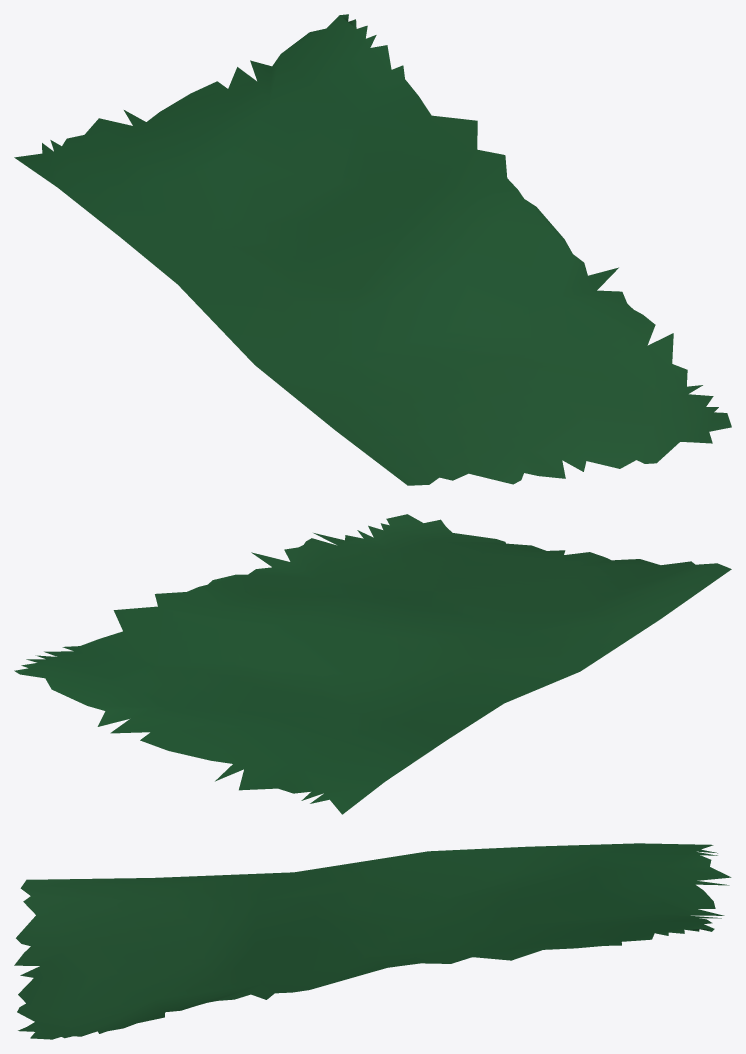
Rendered from payo_land_x4_y4_lod2.glb.
The picture shows the model from 3 angles, top to bottom: view 1: azimuth 30°, elevation 25°; view 2: azimuth 150°, elevation 25°; view 3: azimuth 270°, elevation 25°; orthographic projection. The views are drawn at different scales.
Parts seen in each view (by area): view 1: payo_land_x4_y4; view 2: payo_land_x4_y4; view 3: payo_land_x4_y4.
Part boxes in pixels (x1,y1,x2,y2): payo_land_x4_y4: [14, 14, 731, 485]; payo_land_x4_y4: [14, 514, 731, 814]; payo_land_x4_y4: [14, 843, 731, 1039].
Size of the model in its own units: 132 by 49.18 by 269.
